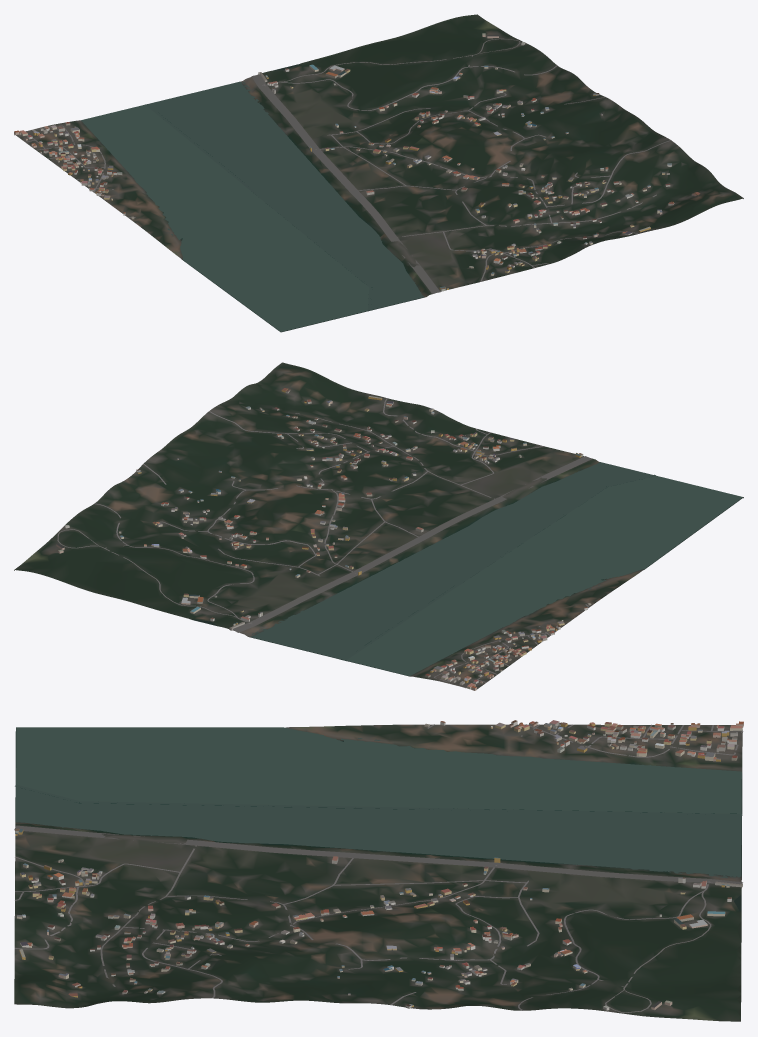
3 views of the same model, one above another, from view 1: azimuth 30°, elevation 25°; view 2: azimuth 150°, elevation 25°; view 3: azimuth 270°, elevation 25° (orthographic). The views are drawn at different scales.
Parts seen in each view (by area): view 1: ground, water, buildings, roads; view 2: ground, water, buildings, roads; view 3: ground, water, buildings, roads.
Boxes of the visible parts, x1,y1,x2,y2 form: ground: [14, 14, 743, 332]; water: [81, 64, 424, 331]; buildings: [14, 33, 700, 291]; roads: [25, 38, 671, 293]; ground: [14, 362, 743, 689]; water: [192, 462, 742, 675]; buildings: [56, 388, 591, 690]; roads: [57, 398, 591, 688]; ground: [14, 724, 742, 1021]; water: [15, 727, 742, 911]; buildings: [15, 720, 743, 1010]; roads: [14, 724, 743, 1012].
Size of the model in its own units: 1406 by 79.32 by 1408.
